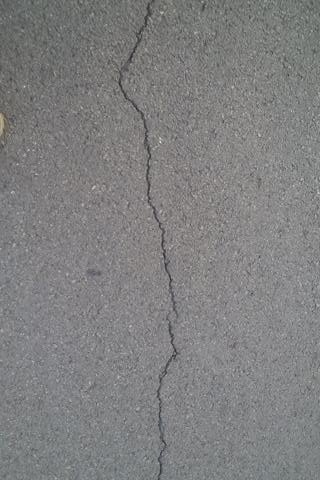A: (117, 1, 180, 480)
